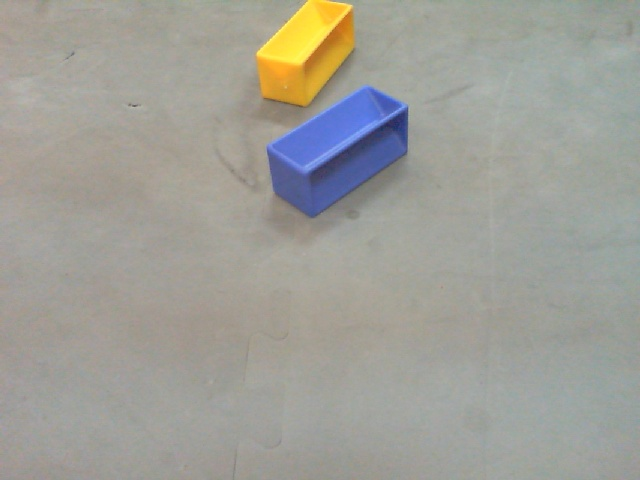BlueSample: (264, 84, 410, 217)
YellowSample: (255, 1, 361, 107)
